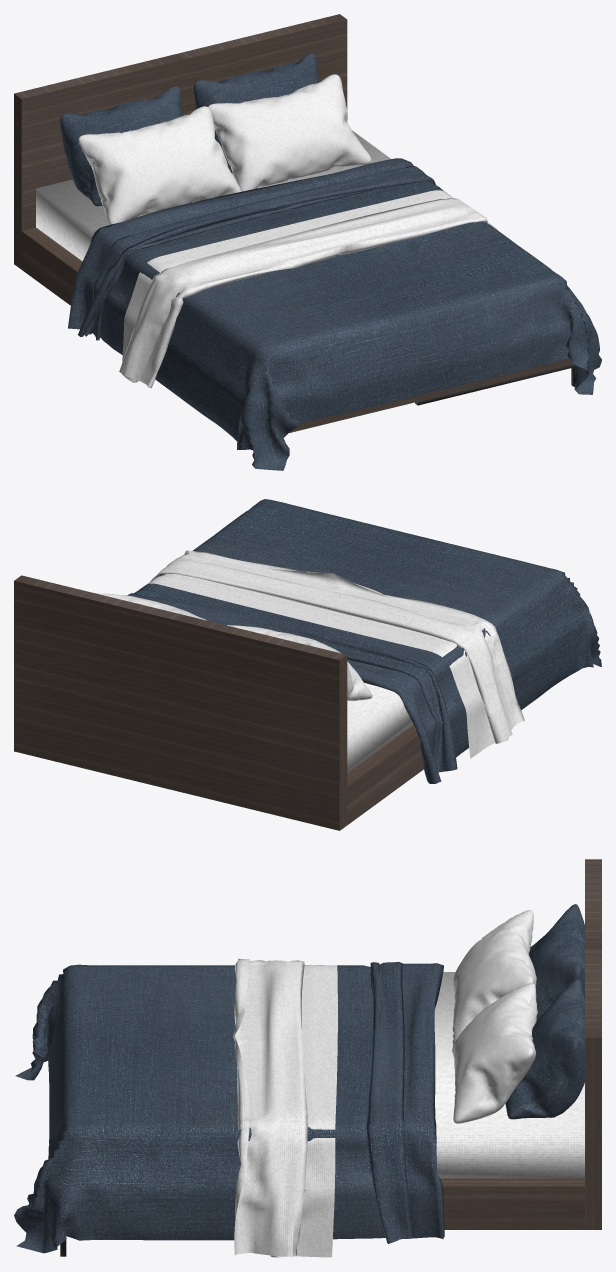
File: bed.gltf
The picture shows the model from 3 angles, top to bottom: view 1: azimuth 30°, elevation 25°; view 2: azimuth 150°, elevation 25°; view 3: azimuth 270°, elevation 25°; orthographic projection. The views are drawn at different scales.
Visible parts, largest first — view 1: Bed 01, Plane.004, Plane.001, Plane.005, Plane.006, Plane, Plane.003, Mattress, Plane.010, Plane.002; view 2: Plane.001, Bed 01, Plane.004, Plane, Mattress, Plane.005, Plane.006; view 3: Bed 01, Plane.004, Mattress, Plane.006, Plane, Plane.010, Plane.001, Plane.005, Plane.003.
Boxes of the visible parts, bbox=[...] form: Bed 01: bbox=[68, 158, 601, 470]; Plane.004: bbox=[119, 190, 497, 388]; Plane.001: bbox=[14, 14, 347, 269]; Plane.005: bbox=[78, 106, 241, 224]; Plane.006: bbox=[208, 74, 371, 191]; Plane: bbox=[21, 227, 572, 432]; Plane.003: bbox=[60, 86, 183, 206]; Mattress: bbox=[36, 130, 390, 260]; Plane.010: bbox=[193, 53, 319, 173]; Plane.002: bbox=[415, 364, 575, 405]; Plane.001: bbox=[14, 575, 347, 830]; Bed 01: bbox=[127, 499, 601, 783]; Plane.004: bbox=[146, 550, 524, 758]; Plane: bbox=[347, 724, 423, 824]; Mattress: bbox=[347, 682, 413, 771]; Plane.005: bbox=[227, 625, 372, 700]; Plane.006: bbox=[96, 593, 206, 620]; Bed 01: bbox=[14, 962, 444, 1253]; Plane.004: bbox=[233, 958, 337, 1257]; Mattress: bbox=[434, 972, 584, 1178]; Plane.006: bbox=[452, 983, 537, 1123]; Plane: bbox=[440, 1178, 584, 1229]; Plane.010: bbox=[505, 978, 584, 1119]; Plane.001: bbox=[585, 859, 601, 1229]; Plane.005: bbox=[452, 910, 536, 1045]; Plane.003: bbox=[529, 904, 584, 1018].
Bounding box in the file's own units: 2.1 × 1 × 2.43.
5 materials, 4 textured.
